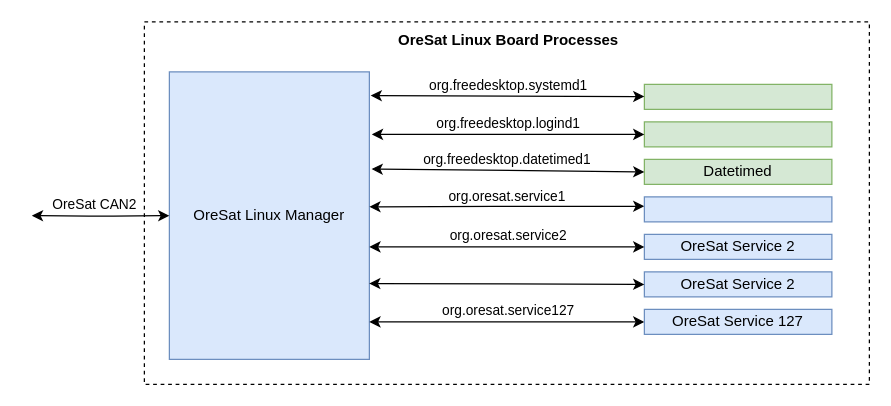
Image size: 891x406. Some labels were removed from this diagram. Here are the shapes that lost their labels. From the top down, the box of each, then its label:
(643, 83, 832, 109): Systemd
(643, 121, 832, 147): Logind
(643, 196, 832, 222): OreSat Service 1
